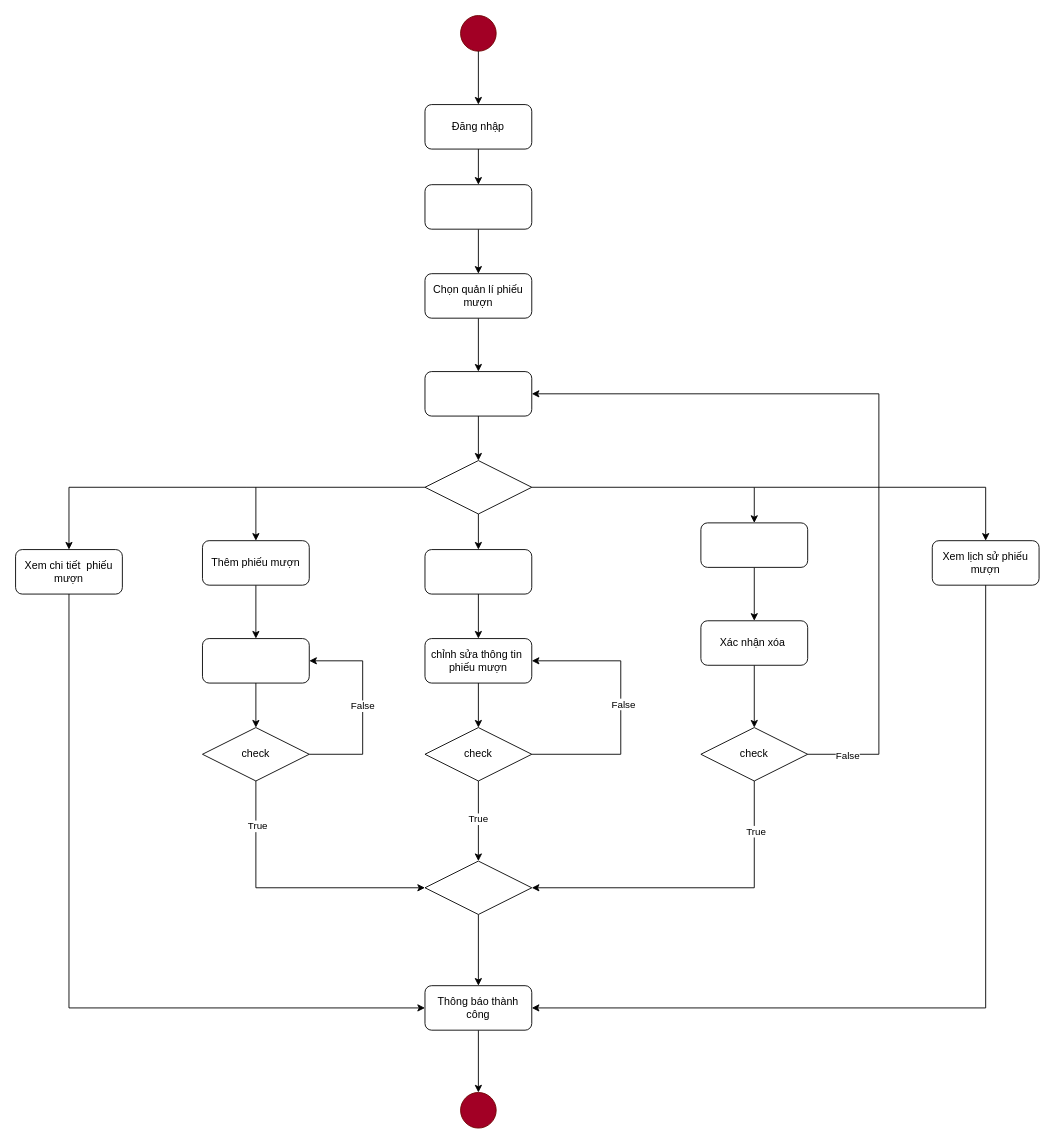
Some shapes in this 1055 by 1144 pixel diagram are drawn without their labels. The centre of each missing label's shape, as x and y in pixels:
"Cập nhật thông tin phiếu mượn" goes at (x=478, y=571).
"Danh sách phiếu mượn" goes at (x=478, y=393).
"Giao diện trang chủ" goes at (x=478, y=206).
"Nhập thông tin phiếu mượn" goes at (x=255, y=660).
"Xóa phiếu" goes at (x=754, y=544).
